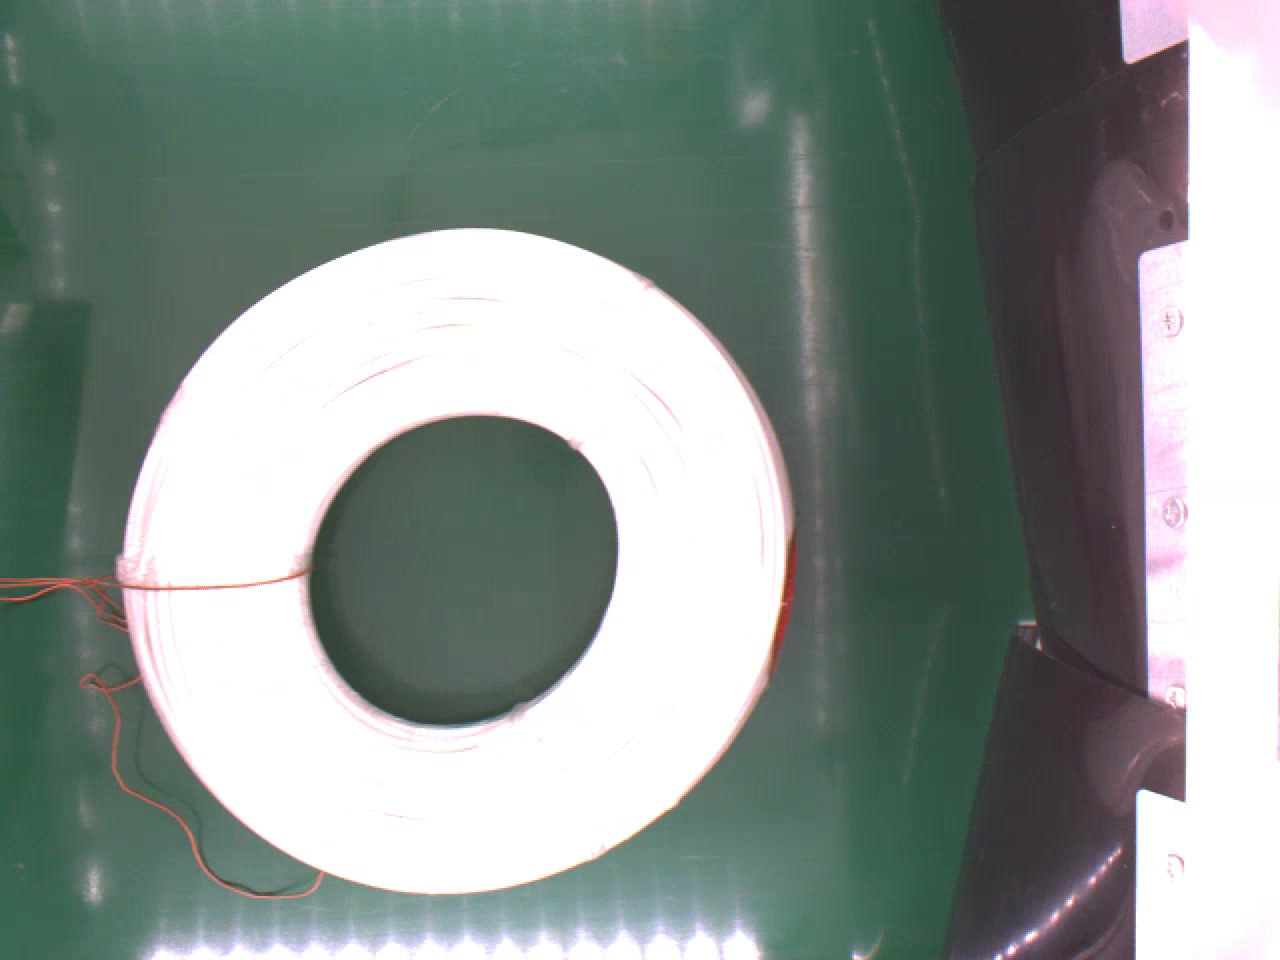white: (120, 218, 789, 890)
